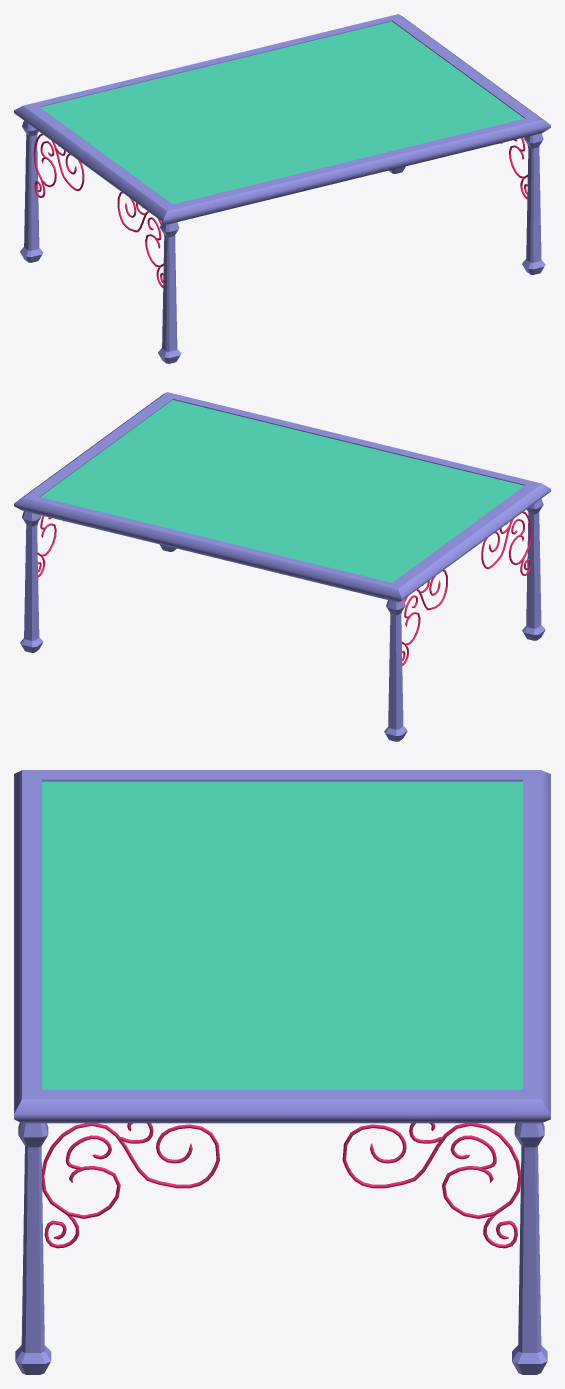
The model's file is table.FBX.
3 views of the same model, one above another, from view 1: azimuth 30°, elevation 25°; view 2: azimuth 150°, elevation 25°; view 3: azimuth 270°, elevation 25° (orthographic). The views are drawn at different scales.
Parts seen in each view (by area): view 1: table, table leg001, table leg, table leg003, Line096; view 2: table, table leg003, table leg002, table leg001, Line096; view 3: table, Line096, table leg, table leg002.
Part boxes in pixels (bbox=[...]): table: bbox=[14, 14, 550, 224]; table leg001: bbox=[158, 222, 181, 363]; table leg: bbox=[522, 133, 545, 274]; table leg003: bbox=[20, 121, 43, 262]; Line096: bbox=[33, 133, 528, 287]; table: bbox=[14, 392, 550, 602]; table leg003: bbox=[384, 599, 407, 741]; table leg002: bbox=[20, 511, 43, 652]; table leg001: bbox=[522, 498, 545, 640]; Line096: bbox=[37, 511, 531, 665]; table: bbox=[14, 770, 550, 1123]; Line096: bbox=[42, 1123, 520, 1248]; table leg: bbox=[15, 1122, 51, 1374]; table leg002: bbox=[512, 1122, 547, 1374].
Bounding box in the file's own units: 2.09 × 0.7889 × 1.39.
